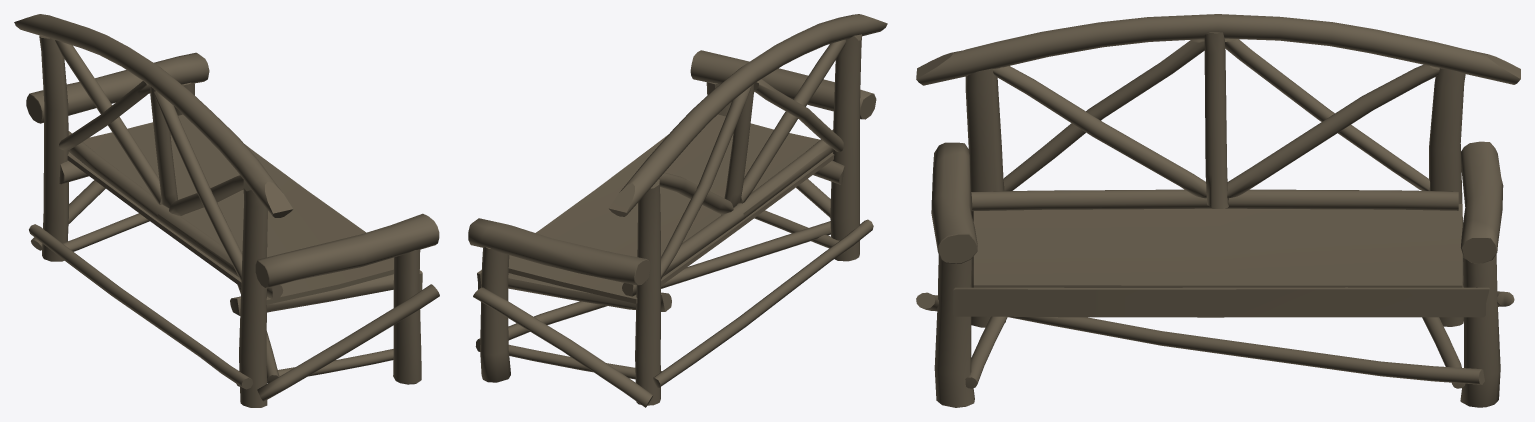
The model's file is bench.fbx.
3 renders of one model, left to right at view 1: azimuth 30°, elevation 25°; view 2: azimuth 150°, elevation 25°; view 3: azimuth 270°, elevation 25°, orthographic. The views are drawn at different scales.
Parts seen in each view (by area): view 1: Park_bench_natural; view 2: Park_bench_natural; view 3: Park_bench_natural.
Part boxes in pixels (x1,y1,x2,y2): Park_bench_natural: (14, 14, 439, 407); Park_bench_natural: (468, 14, 887, 407); Park_bench_natural: (916, 14, 1520, 407).
Bounding box in the file's own units: 70 × 95 × 170.
1 material, 1 textured.
